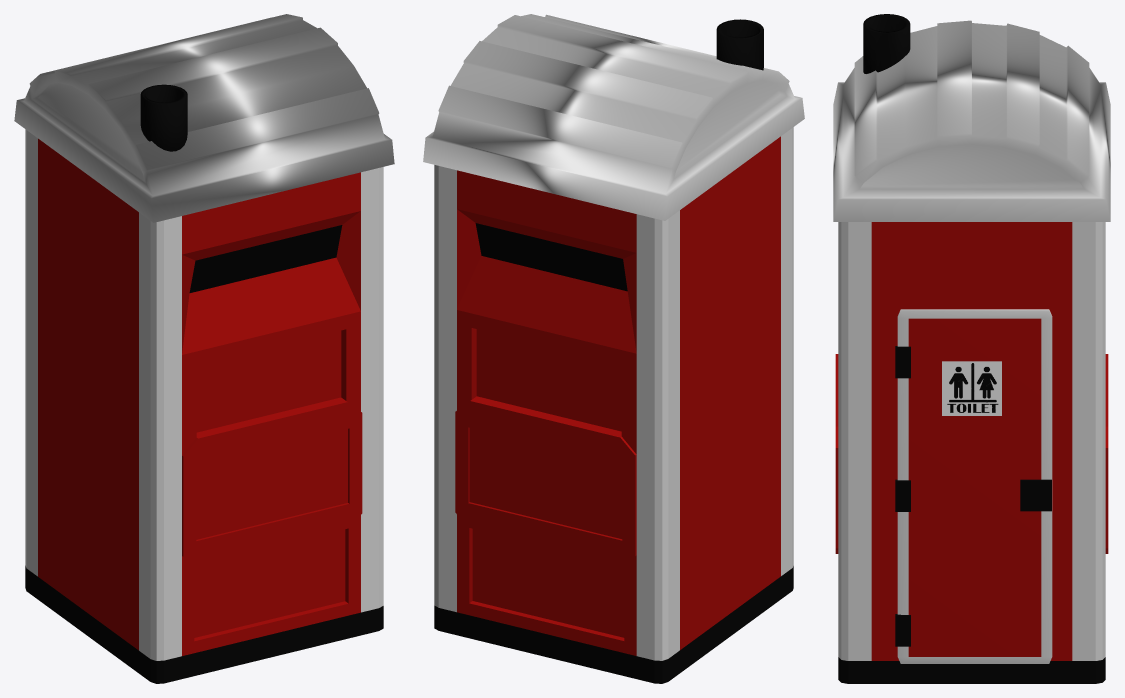
File: Public_Toliet_1.fbx
3 views of the same model, side by side, from view 1: azimuth 30°, elevation 25°; view 2: azimuth 150°, elevation 25°; view 3: azimuth 270°, elevation 25° (orthographic).
Visible parts, largest first — view 1: Cube.051; view 2: Cube.051; view 3: Cube.051.
Part boxes in pixels (box(x1,y1,x2,y2)): Cube.051: box(14, 14, 394, 683); Cube.051: box(423, 14, 804, 683); Cube.051: box(833, 14, 1110, 683).
Size of the model in its own units: 210 by 465 by 208.
